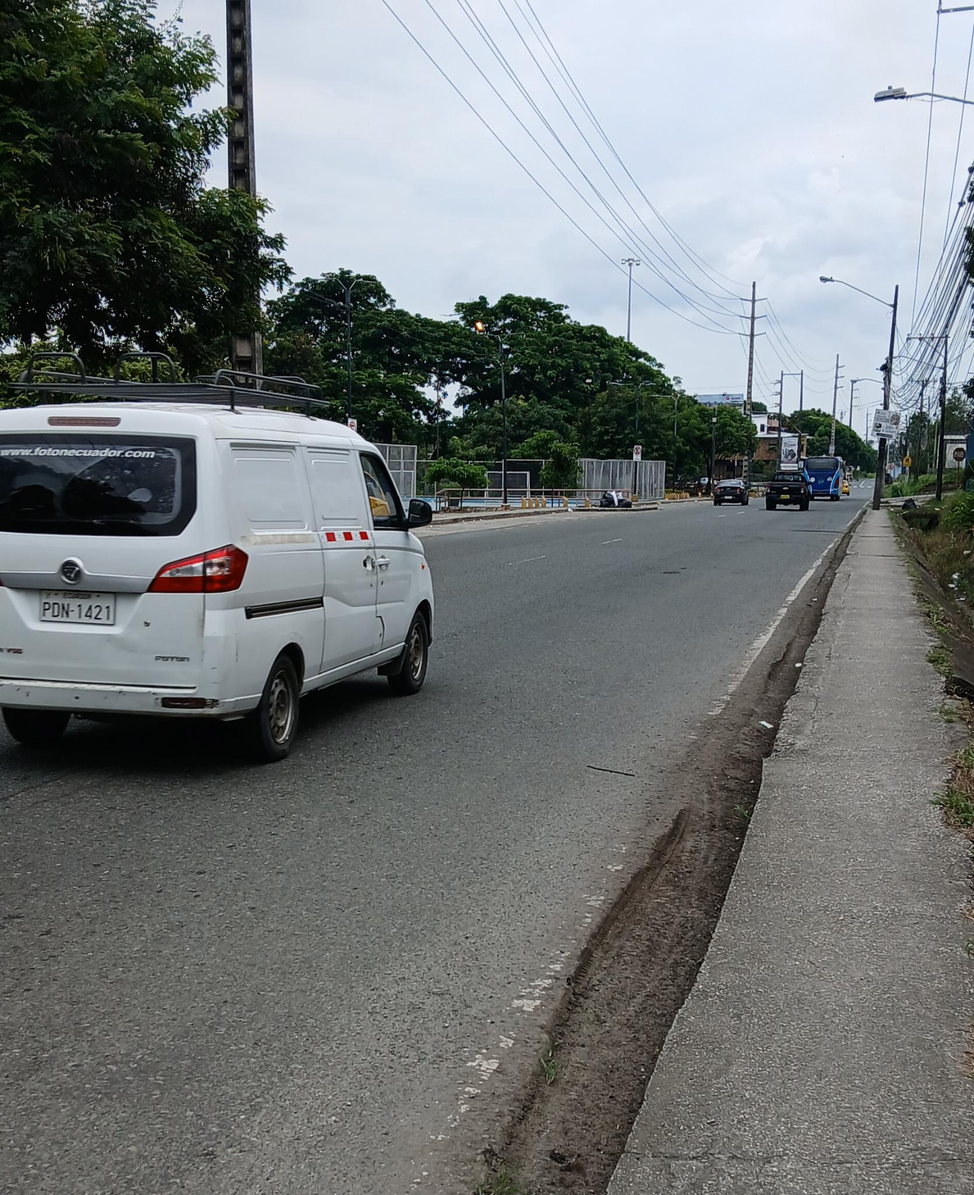license_plate: (39, 591, 115, 624), (777, 497, 790, 503)
